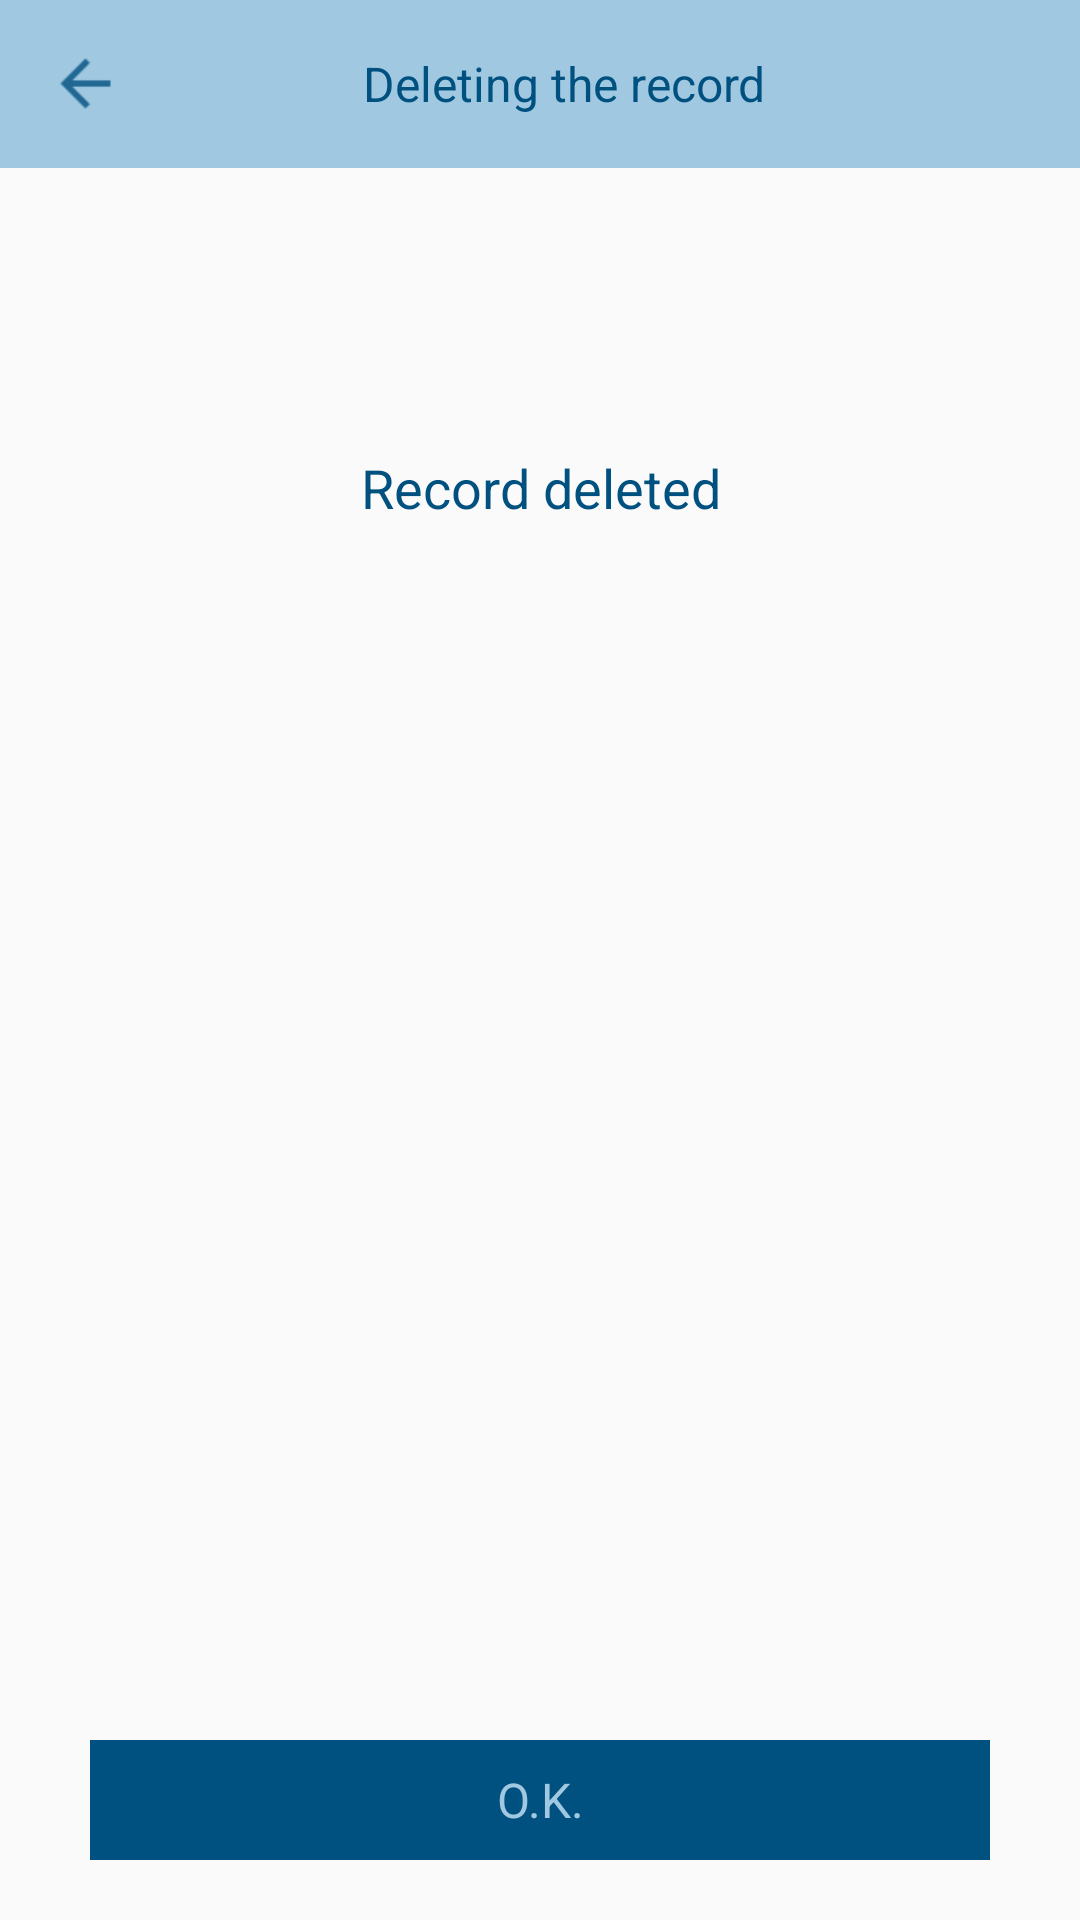

Named icons in this screenshot (1080×1920) and their bounding boxes, detection(x1, y1, x2, y2):
arrow back: detection(60, 58, 111, 109)
